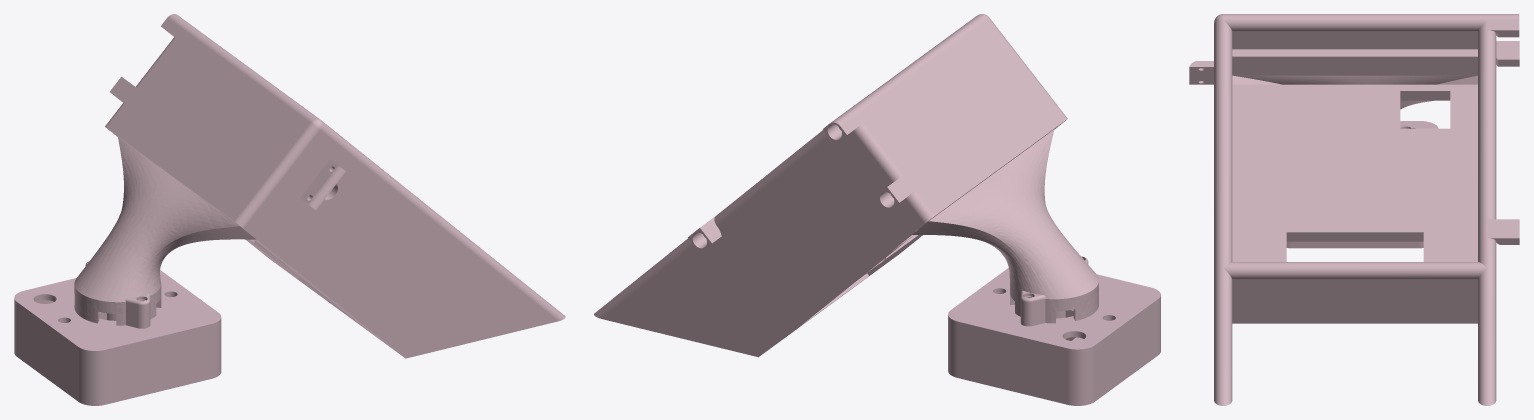
Rendered from paralysis.glb.
3 views of the same model, side by side, from view 1: azimuth 30°, elevation 25°; view 2: azimuth 150°, elevation 25°; view 3: azimuth 270°, elevation 25° (orthographic). The views are drawn at different scales.
Visible parts, largest first — view 1: paralysis.stl; view 2: paralysis.stl; view 3: paralysis.stl.
Boxes of the visible parts, x1,y1,x2,y2 form: paralysis.stl: [14, 14, 565, 405]; paralysis.stl: [594, 14, 1160, 405]; paralysis.stl: [1189, 14, 1519, 405].
Size of the model in its own units: 162 by 87.62 by 98.7.
